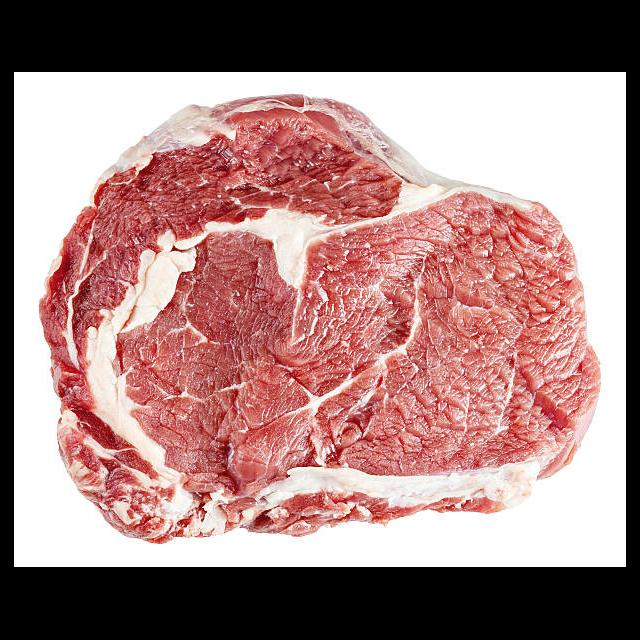beef: (38, 92, 603, 546)
